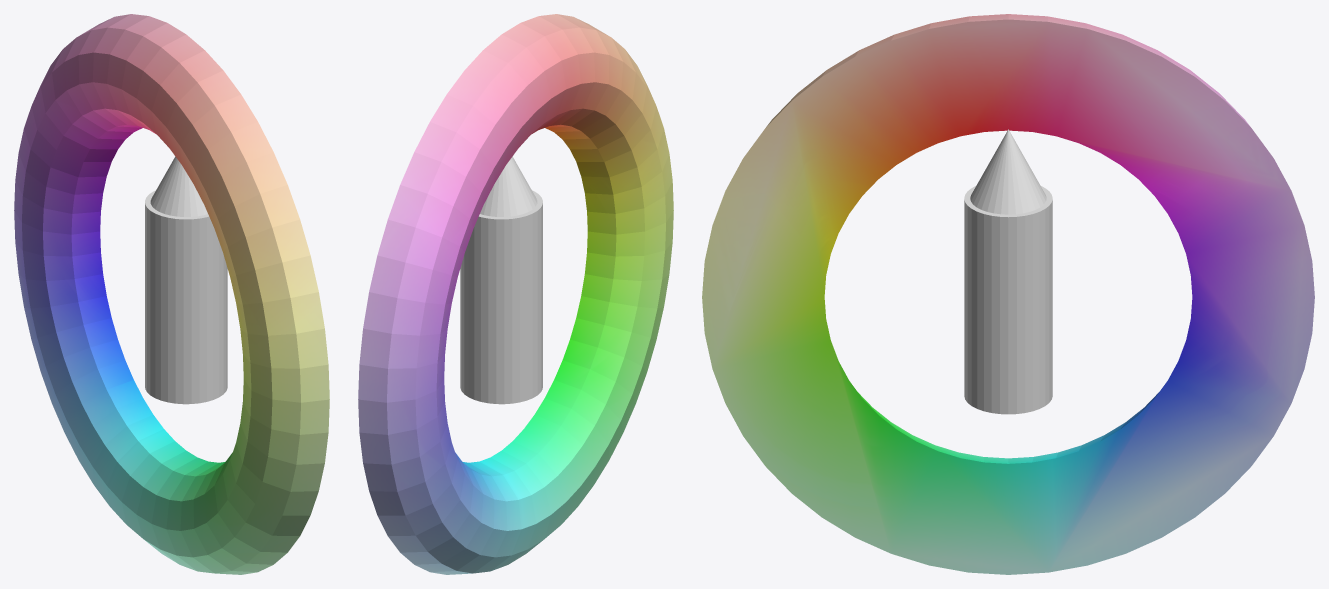
The model's file is huecircle.fbx.
3 renders of one model, left to right at view 1: azimuth 30°, elevation 25°; view 2: azimuth 150°, elevation 25°; view 3: azimuth 270°, elevation 25°, orthographic. The views are drawn at different scales.
Visible parts, largest first — view 1: Torus, Cylinder, Cone; view 2: Torus, Cylinder, Cone; view 3: Torus, Cylinder, Cone.
Part boxes in pixels (x1,y1,x2,y2): Torus: (14,14,329,574); Cylinder: (145,190,227,404); Cone: (150,156,207,216); Torus: (358,14,673,574); Cylinder: (460,190,542,404); Cone: (480,156,537,216); Torus: (702,14,1314,574); Cylinder: (964,186,1052,414); Cone: (970,129,1046,214).
Bounding box in the file's own units: 43.06 × 250 × 250.
